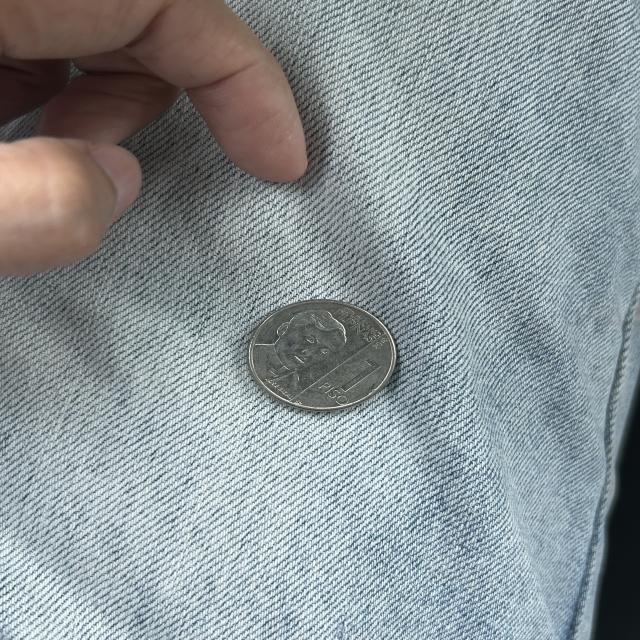1_New_Front: (319, 348, 380, 404)
